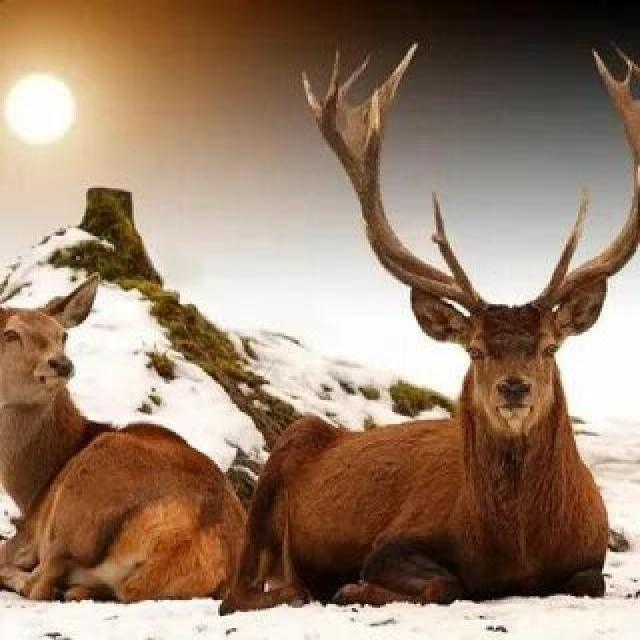deer: (205, 105, 640, 610), (0, 262, 236, 622)
